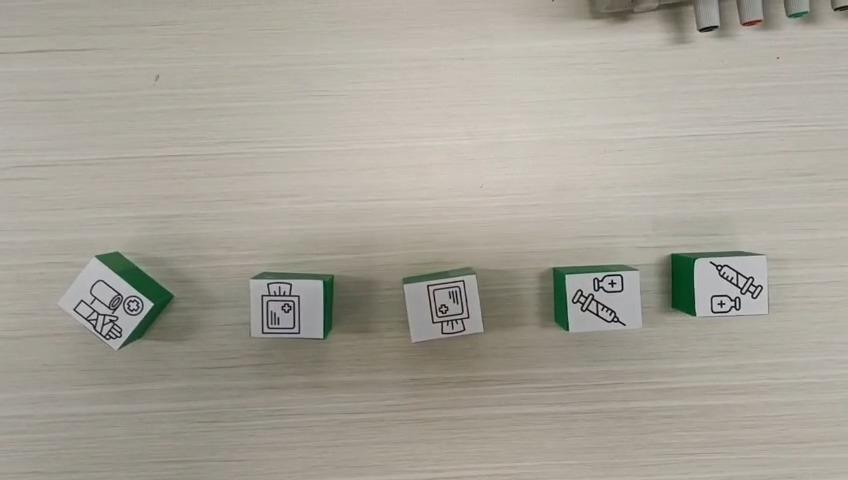Bandages: (54, 250, 173, 349)
Gauze: (401, 266, 486, 343), (248, 270, 335, 340)
antiseptic cream: (669, 251, 771, 318), (551, 262, 643, 332)
